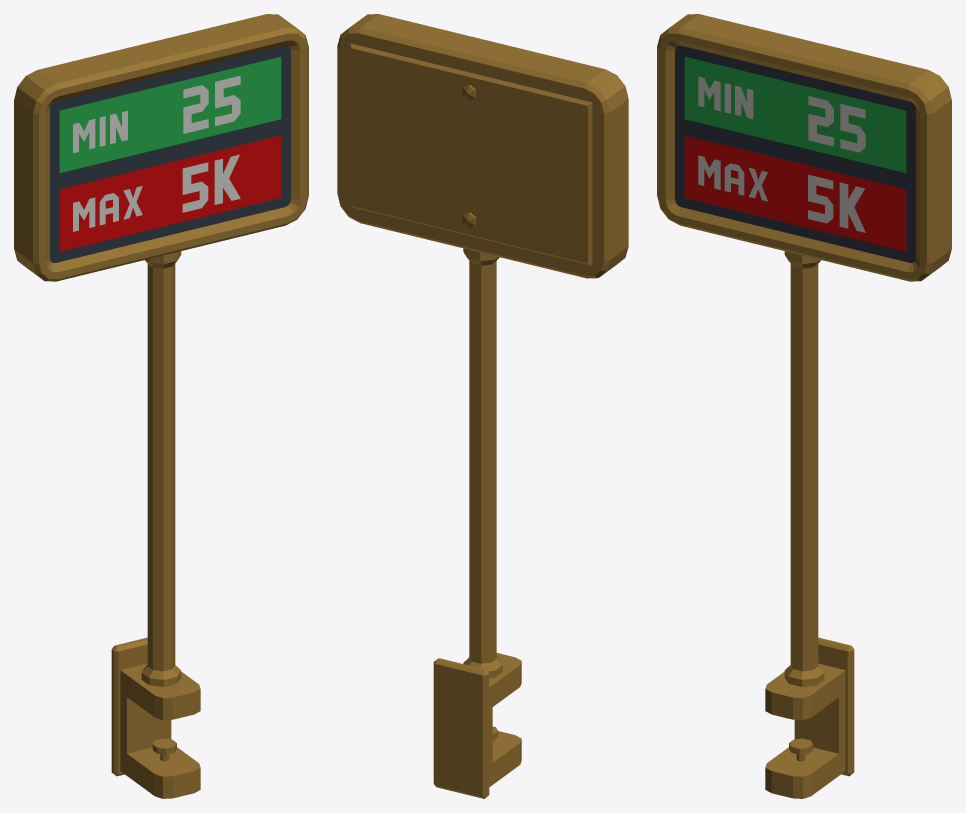
Rendered from table-limit-sign-174e5c.glb.
3 renders of one model, left to right at view 1: azimuth 30°, elevation 25°; view 2: azimuth 150°, elevation 25°; view 3: azimuth 330°, elevation 25°, orthographic.
Visible parts, largest first — view 1: screen-housing, post-and-clamp; view 2: screen-housing, post-and-clamp; view 3: screen-housing, post-and-clamp.
Boxes of the visible parts, left/top/right/bottom form: screen-housing: left=14, top=14, right=308, bottom=281; post-and-clamp: left=111, top=251, right=200, bottom=798; screen-housing: left=337, top=14, right=628, bottom=278; post-and-clamp: left=433, top=248, right=521, bottom=798; screen-housing: left=657, top=14, right=951, bottom=281; post-and-clamp: left=765, top=251, right=854, bottom=798.
Bounding box in the file's own units: 0.286 × 0.734 × 0.084.
